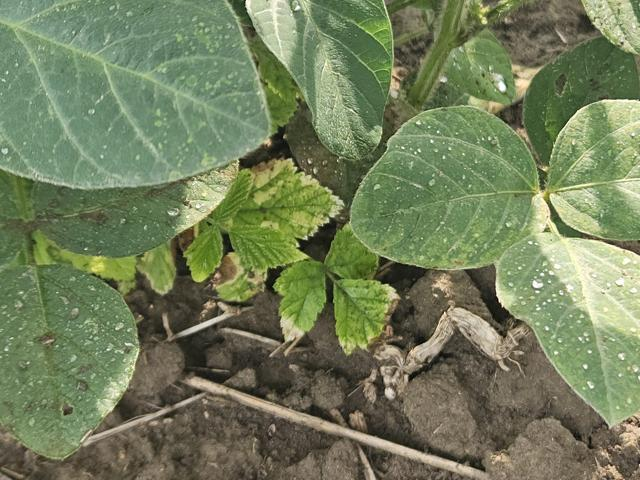bad weed: (181, 173, 403, 362)
